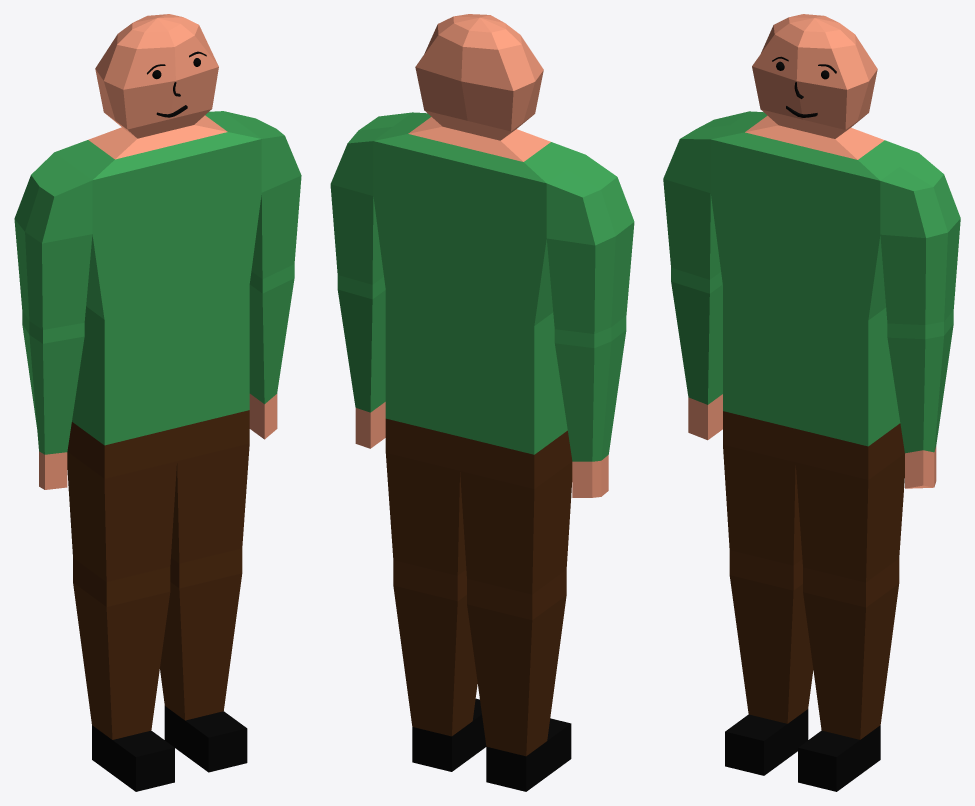
File: Human.fbx
3 renders of one model, left to right at view 1: azimuth 30°, elevation 25°; view 2: azimuth 150°, elevation 25°; view 3: azimuth 330°, elevation 25°, orthographic. The views are drawn at different scales.
Parts seen in each view (by area): view 1: Cube; view 2: Cube; view 3: Cube.
Part boxes in pixels (x1=…): Cube: x1=14, y1=14, x2=301, y2=791; Cube: x1=330, y1=14, x2=634, y2=791; Cube: x1=663, y1=14, x2=960, y2=791.
Size of the model in its own units: 176 by 463 by 60.23.
